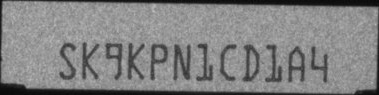1: (265, 43, 283, 83), (196, 42, 214, 81)
4: (309, 43, 328, 82)
9: (105, 42, 123, 81)
A: (287, 45, 306, 82)
C: (219, 43, 238, 81)
D: (242, 44, 261, 82)
K: (81, 42, 101, 81), (127, 42, 144, 81)
N: (172, 43, 191, 82)
P: (149, 42, 167, 80)
S: (57, 43, 76, 81)
